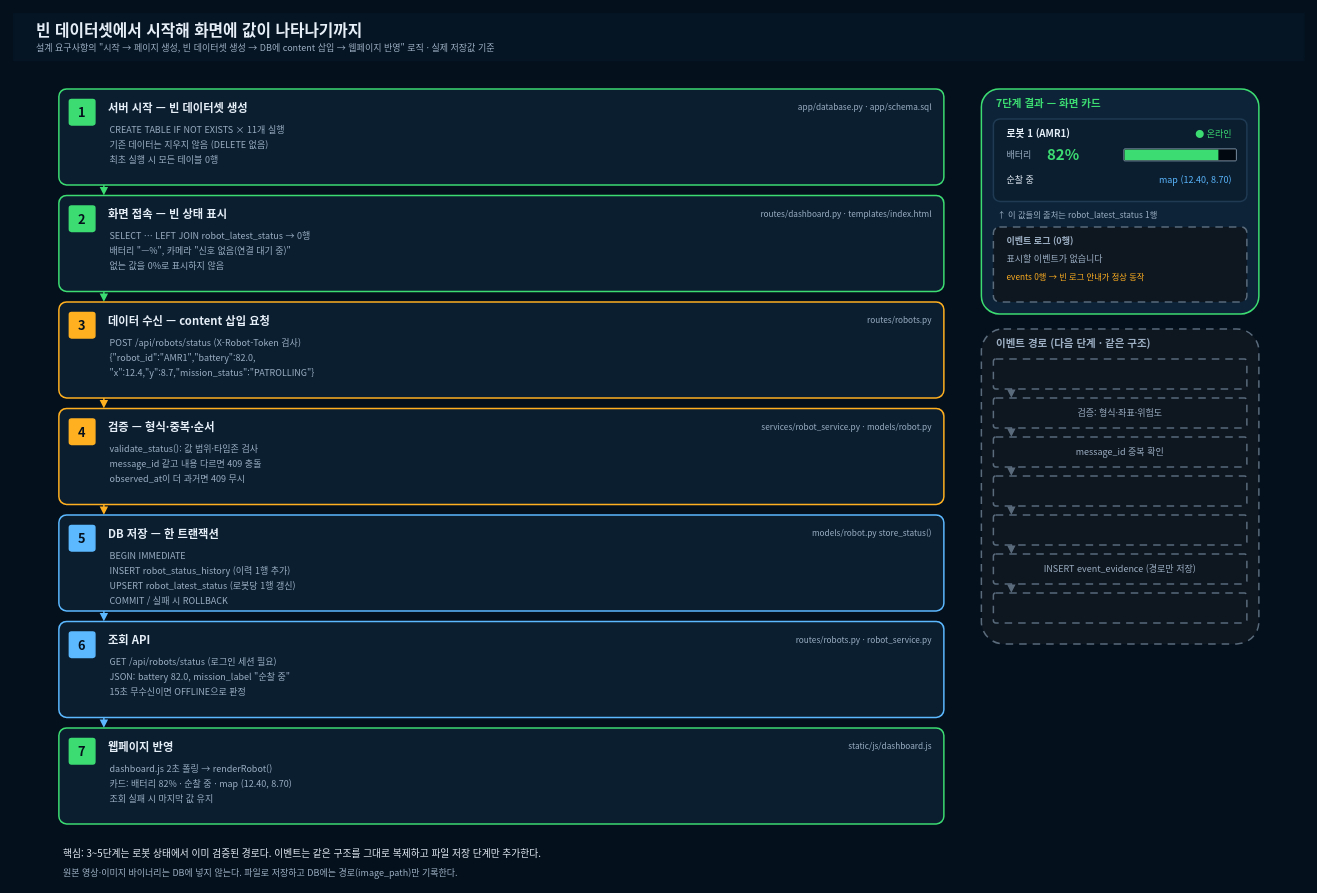
Image size: 1317x893. Some labels were removed from this diagram. The shapes that lost their labels are listed below. From the top down, each one's centre as x and y in pixels, then its label:
At point 1119,373: "POST /api/events + 증거 이미지".
At point 1119,490: "instance/evidence/ 에 사진 파일 저장".
At point 1119,529: "INSERT events (status=NEW)".
At point 1119,607: "이벤트 로그 표 1행 추가 표시".
